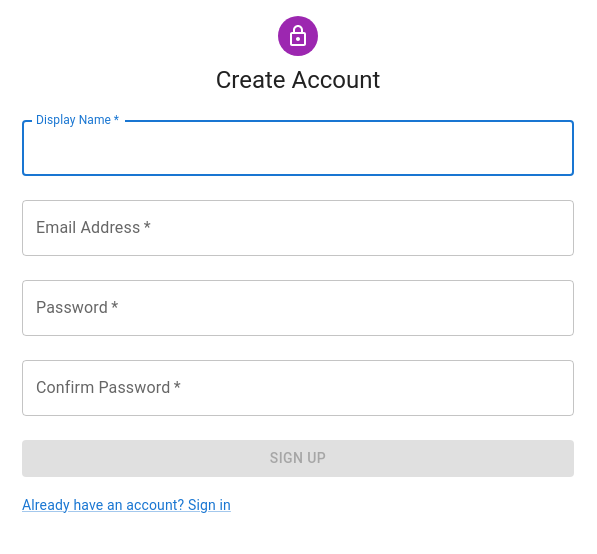
it: Signup › should show error message if response message says email/displayName  already taken
This screenshot has width=597, height=554.
In the field labelled "Display Name": {"x": 298, "y": 148} [22,120,574,176], type "fakedisplayname"
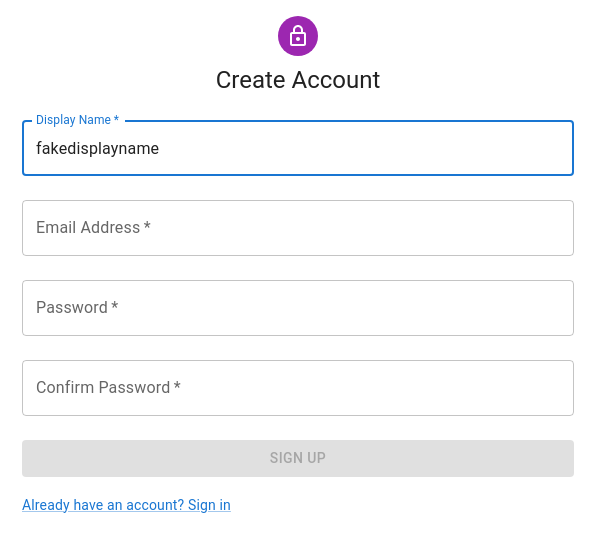
In the field labelled "Email": {"x": 298, "y": 228} [22,200,574,256], type "test@email.com"
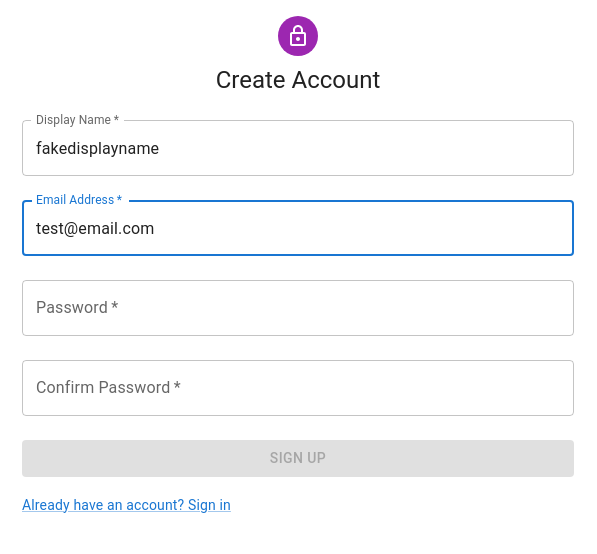
In the password field labelled "Password *": {"x": 298, "y": 308} [22,280,574,336], type "testPassword1"
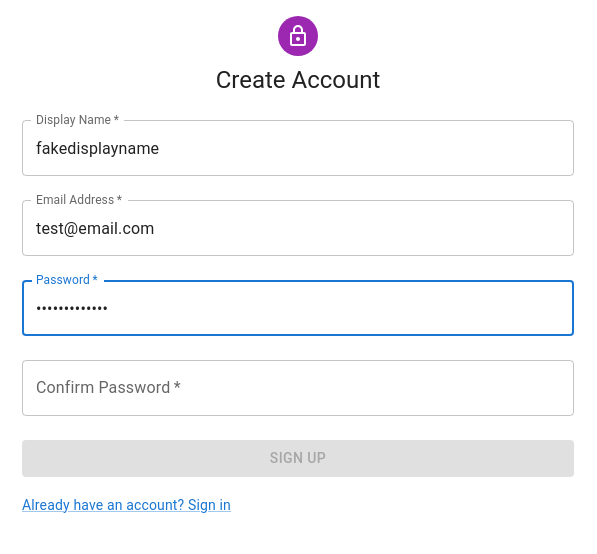
In the password field labelled "Confirm Password *": {"x": 298, "y": 388} [22,360,574,416], type "testPassword1"
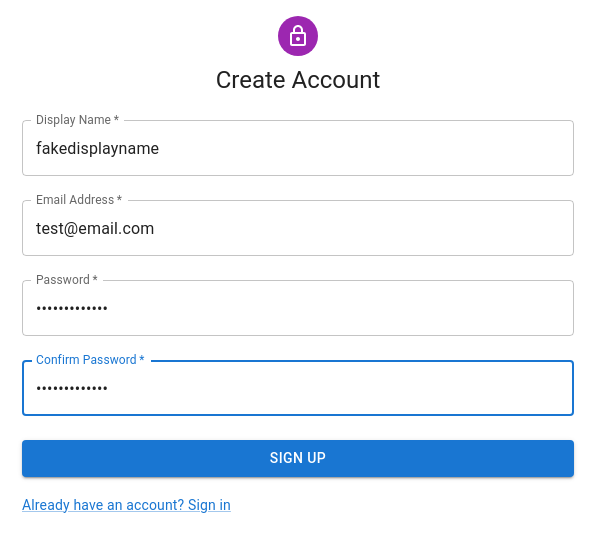
Click the button "Sign Up": {"x": 298, "y": 458} [22,440,574,476]
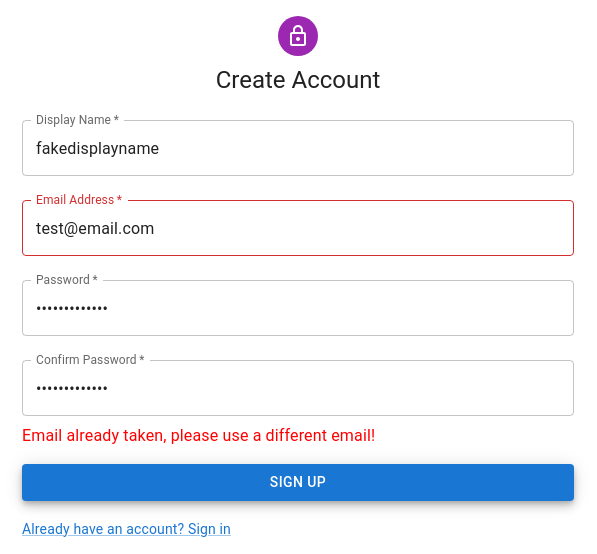
Expected: the text "Email already taken" is shown, [22,426,375,445]
